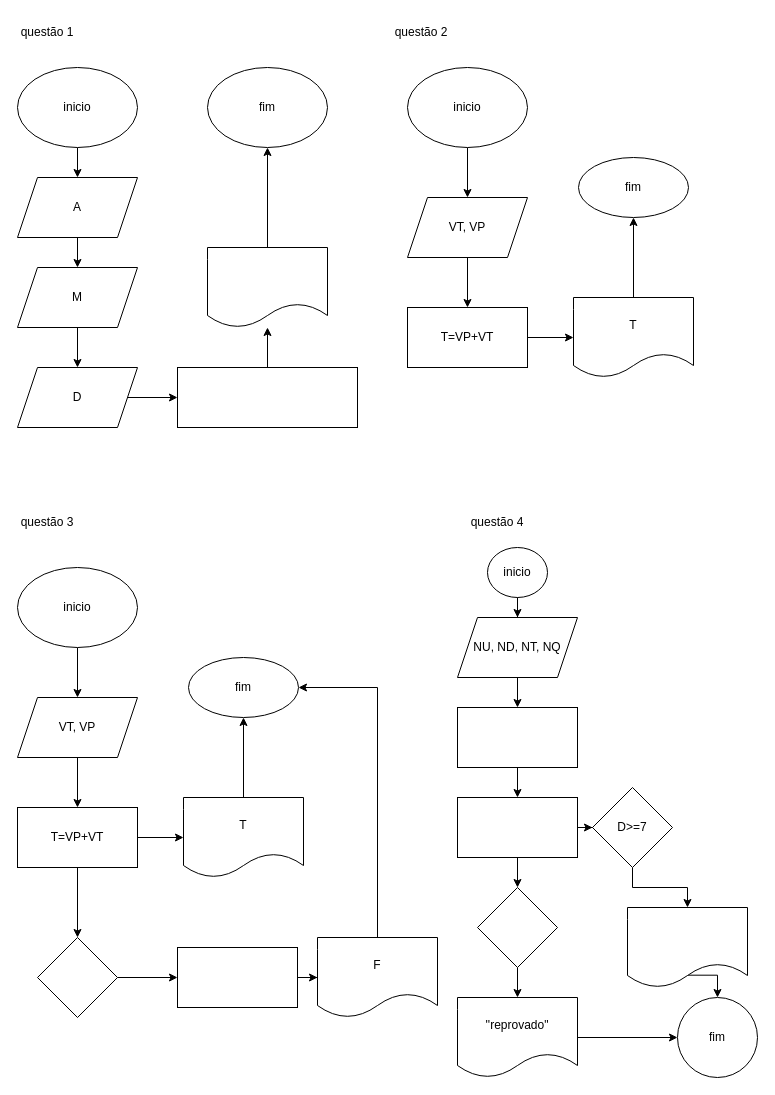
Some shapes in this 775 by 1095 pixel diagram are drawn without their labels. The centre of each missing label's shape, as x and y in pixels:
"aprovado": point 687,947
D<=7: point 517,927
D= S/4: point 517,827
F=VT-VP: point 237,977
ND: point 267,287
ND = A*360 + M*30 + D: point 267,397
S= NU+ND+NT+NQ: point 517,737
VP<VT: point 77,977
